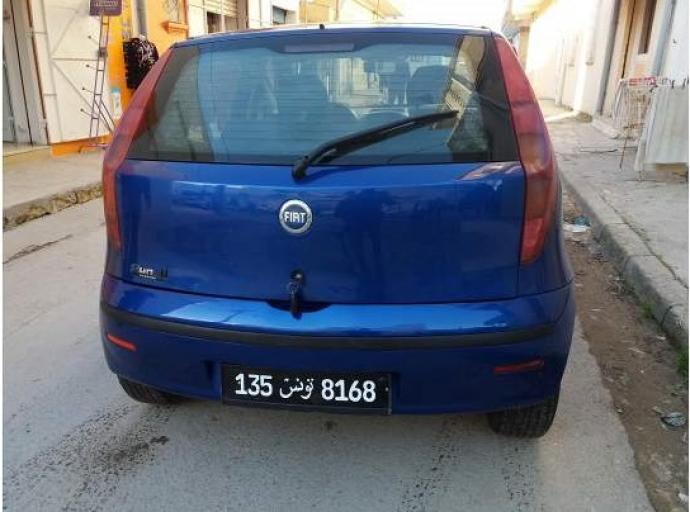LP: (218, 357, 394, 414)
